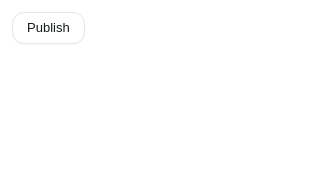
Scenario: Button component › reloads the form with the object's new values
Step 1. Click the button "Publish" → (48, 28), box [12,12,85,44]
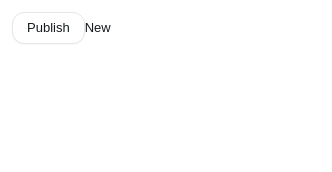
Check: the text with test id "title" reads "New", box [85,20,111,35]
